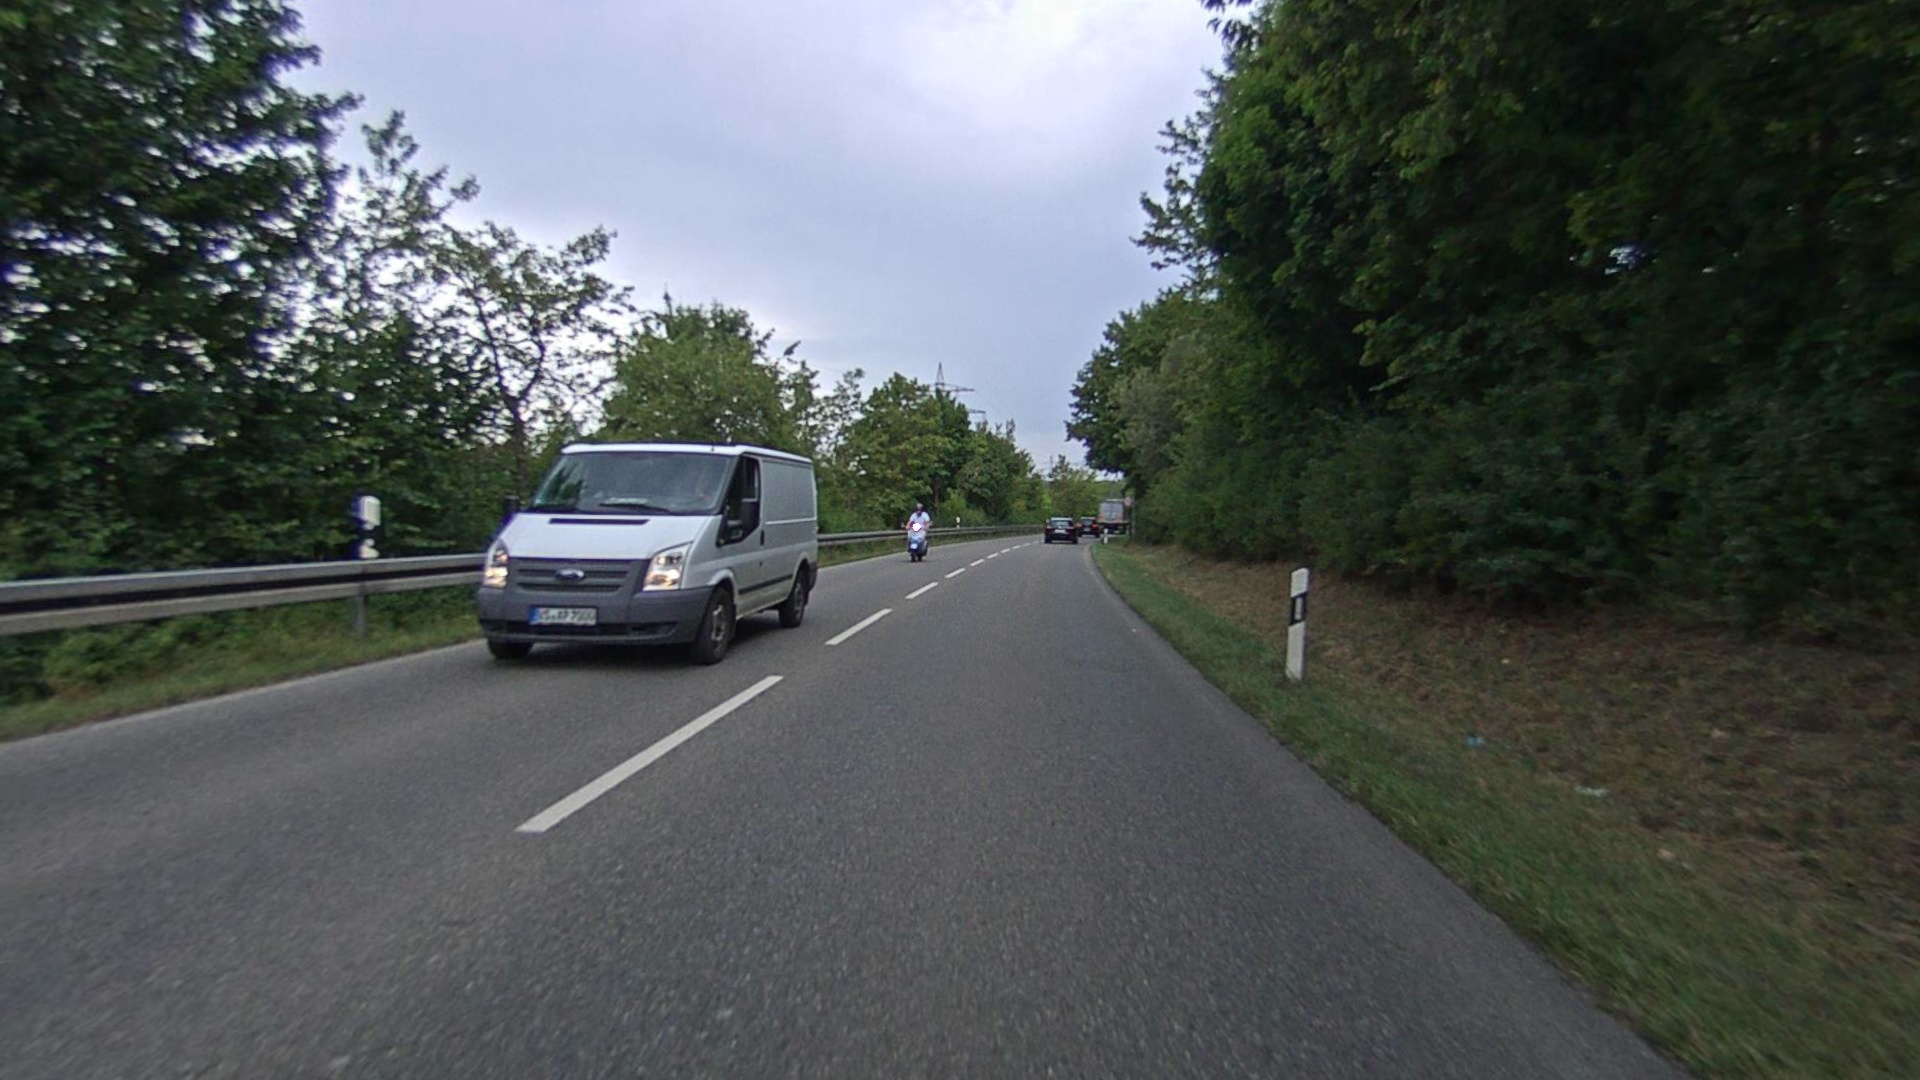car: (469, 440, 822, 669)
